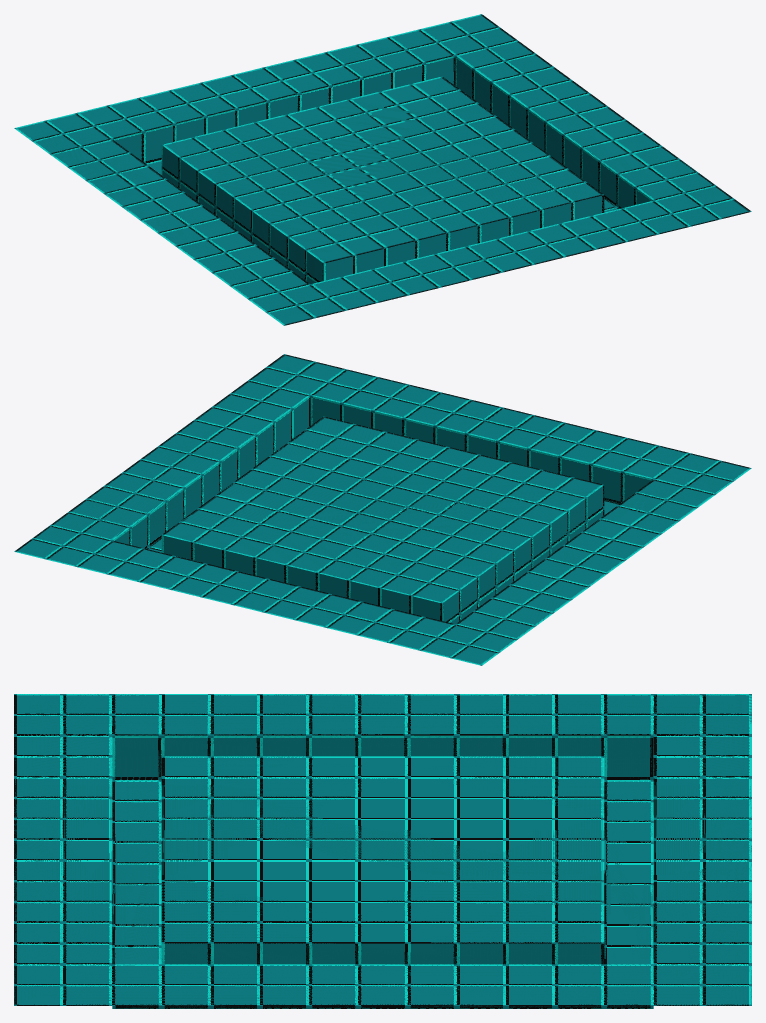
The model's file is Dungeon Floor Water [].dae.
3 renders of one model, top to bottom at view 1: azimuth 30°, elevation 25°; view 2: azimuth 150°, elevation 25°; view 3: azimuth 270°, elevation 25°, orthographic. The views are drawn at different scales.
Parts seen in each view (by area): view 1: group_0 (×3); view 2: group_0 (×3); view 3: group_0 (×3).
Boxes of the visible parts, bbox=[...] form: group_0 (×3): bbox=[14, 14, 751, 325]; group_0 (×3): bbox=[14, 354, 751, 665]; group_0 (×3): bbox=[14, 694, 751, 1008].
Bounding box in the file's own units: 591 × 591 × 39.37.
